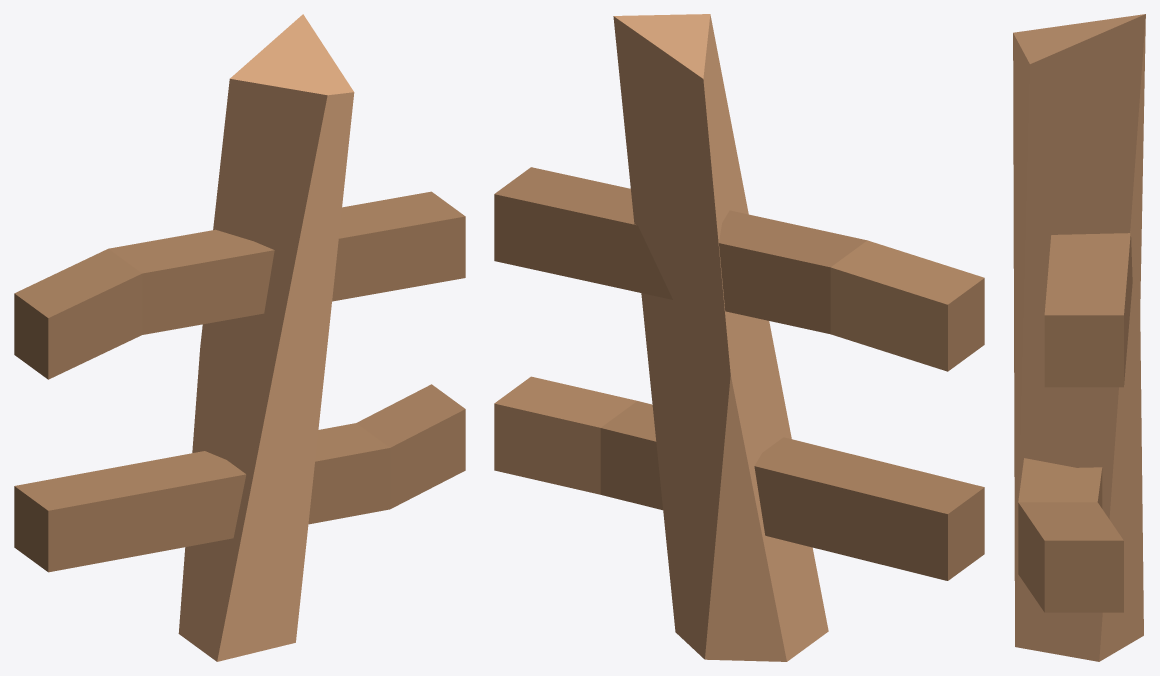
The model's file is fence_3.glb.
The picture shows the model from 3 angles, left to right: view 1: azimuth 30°, elevation 25°; view 2: azimuth 150°, elevation 25°; view 3: azimuth 270°, elevation 25°; orthographic projection. The views are drawn at different scales.
Parts seen in each view (by area): view 1: fence_3; view 2: fence_3; view 3: fence_3.
Boxes of the visible parts, x1,y1,x2,y2 form: fence_3: [14, 14, 465, 661]; fence_3: [494, 14, 984, 661]; fence_3: [1013, 14, 1145, 661].
Bounding box in the file's own units: 1.96 × 2.57 × 0.4627.
